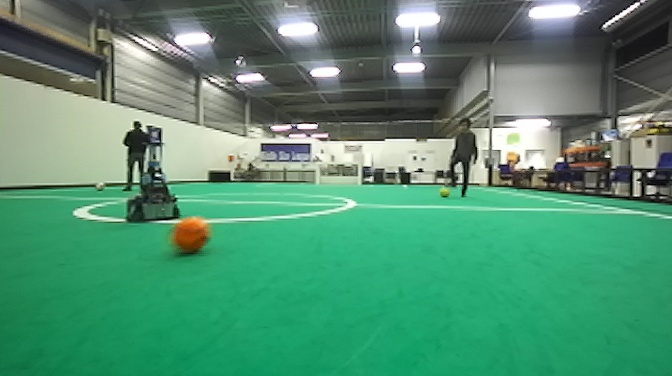ball: (169, 214, 212, 259), (438, 186, 453, 200), (93, 179, 106, 192)
goal: (314, 160, 366, 188)
goalpost: (354, 161, 365, 187), (315, 161, 320, 186)
human: (444, 116, 480, 200), (120, 119, 155, 192)
robot: (123, 140, 182, 227)
